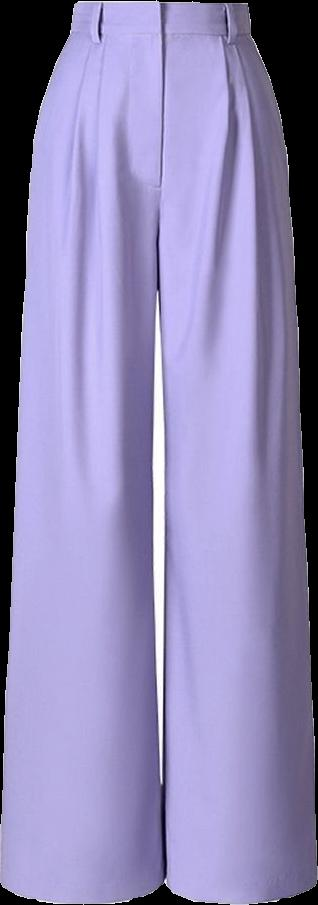Hemline: (0, 870, 166, 904), (158, 873, 317, 904)
Pantleg: (0, 2, 162, 902), (158, 3, 316, 903)
Waistline: (67, 24, 251, 44), (71, 0, 248, 16)
